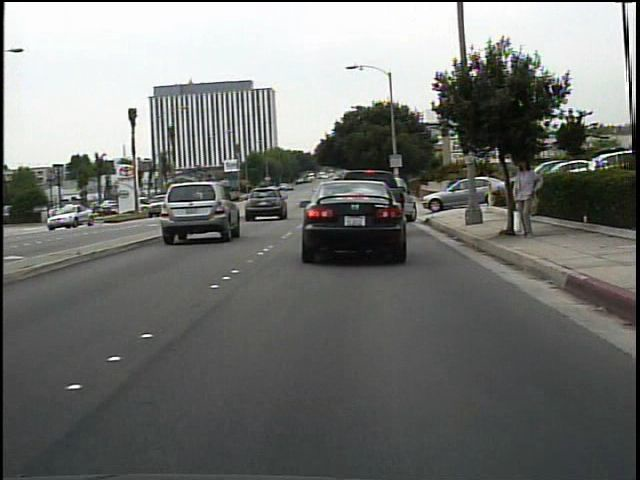person: (507, 156, 544, 243)
